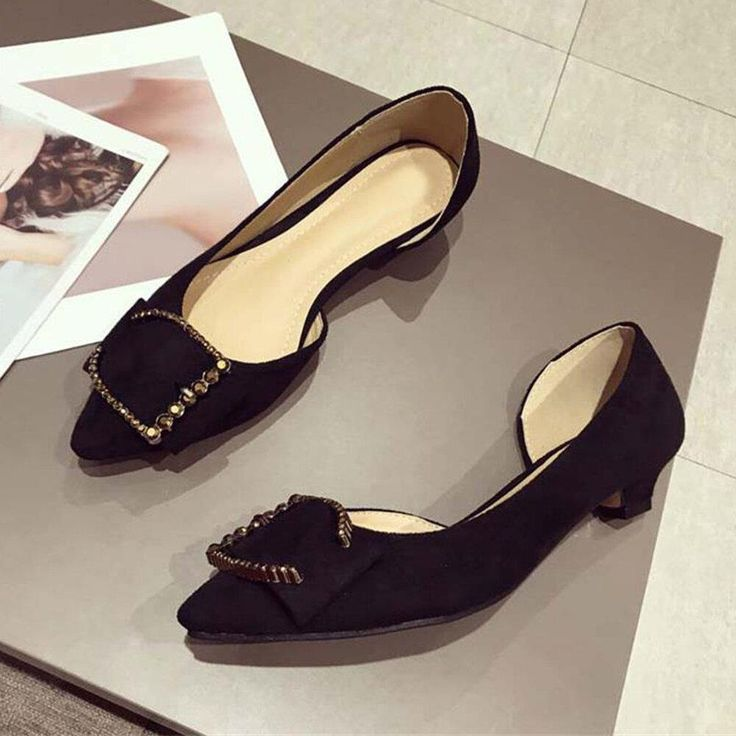gamuza: (71, 87, 686, 634)
